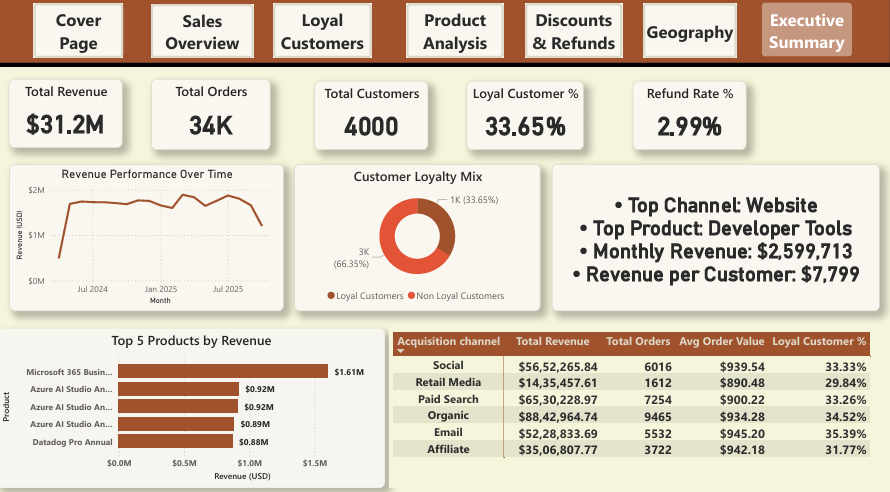

This screenshot's page, from the dashboard's own definition file:
{"tool":"powerbi","page":{"name":"Executive Summary","canvas":[1280,720],"ordinal":6},"visuals":[{"type":"shape","box":[0,0,1280,98.6],"z":0},{"type":"actionButton","title":"Sales Overview","box":[52.9,11.4,128.6,77.1],"z":1000},{"type":"actionButton","title":"Sales Overview","box":[395.7,11.4,141.4,77.1],"z":2000},{"type":"actionButton","title":"Sales Overview","box":[587.1,11.4,138.6,77.1],"z":3000},{"type":"actionButton","title":"Sales Overview","box":[757.1,11.4,138.6,77.1],"z":4000},{"type":"actionButton","title":"Sales Overview","box":[925.7,11.4,134.3,77.1],"z":5000},{"type":"actionButton","title":"Sales Overview","box":[220.9,11.6,146.8,77],"z":6000},{"type":"actionButton","title":"Sales Overview","box":[1095.7,10.2,129.3,77],"z":7000},{"type":"shape","box":[0,81.4,1280,35.7],"z":8000},{"type":"card","title":"Loyal Customer %","fields":{"Values":["_Measures.Loyal Customer %"]},"box":[672.8,122.1,168.6,98.8],"z":9000},{"type":"card","title":"Total Revenue","fields":{"Values":["_Measures.Total Revenue"]},"box":[17.4,119.2,162.8,98.8],"z":10000},{"type":"card","title":"Total Orders","fields":{"Values":["_Measures.Total Orders"]},"box":[220.9,119.2,171.5,101.7],"z":11000},{"type":"card","title":"Total Customers","fields":{"Values":["_Measures.Total Customers"]},"box":[454.9,122.1,162.8,98.8],"z":12000},{"type":"card","title":"Refund Rate %","fields":{"Values":["_Measures.Refund Rate %"]},"box":[911.2,122.1,162.8,98.8],"z":13000},{"type":"lineChart","title":"Revenue Performance Over Time","fields":{"Y":["_Measures.Total Revenue"],"Category":["Events.year_month.Variation.Date Hierarchy.Year","Events.year_month.Variation.Date Hierarchy.Month"]},"box":[18.1,240.9,392.7,211.2],"z":14000},{"type":"donutChart","title":"Customer Loyalty Mix","fields":{"Y":["_Measures.Loyal Customers","_Measures.Non Loyal Customers"]},"box":[425.7,240.9,353.1,211.2],"z":15000},{"type":"card","title":"Total Orders","fields":{"Values":["_Measures.Executive Insights"]},"box":[795.3,240.9,470.2,211.2],"z":16000},{"type":"clusteredBarChart","title":"Top 5 Products by Revenue","fields":{"Category":["Products.product_name"],"Y":["_Measures.Total Revenue"]},"box":[0,476.8,556,227.7],"z":17000},{"type":"pivotTable","fields":{"Rows":["Customers.acquisition_channel"],"Values":["_Measures.Total Revenue","_Measures.Total Orders","_Measures.Avg Order Value","_Measures.Loyal Customer %"]},"box":[562.6,476.8,696.3,227.7],"z":18000}]}

Visuals, with their boxes in screenshot pixels (x1, y1, x2, y2), scaled from the page's 1280x720 canvas onto the 890x492 screenshot:
shape: box=[0, 0, 889, 67]
"Sales Overview" actionButton: box=[37, 8, 126, 60]
"Sales Overview" actionButton: box=[275, 8, 373, 60]
"Sales Overview" actionButton: box=[408, 8, 505, 60]
"Sales Overview" actionButton: box=[526, 8, 623, 60]
"Sales Overview" actionButton: box=[644, 8, 737, 60]
"Sales Overview" actionButton: box=[154, 8, 256, 61]
"Sales Overview" actionButton: box=[762, 7, 852, 60]
shape: box=[0, 56, 889, 80]
"Loyal Customer %" card: box=[468, 83, 585, 151]
"Total Revenue" card: box=[12, 81, 125, 149]
"Total Orders" card: box=[154, 81, 273, 151]
"Total Customers" card: box=[316, 83, 429, 151]
"Refund Rate %" card: box=[634, 83, 747, 151]
"Revenue Performance Over Time" lineChart: box=[13, 165, 286, 309]
"Customer Loyalty Mix" donutChart: box=[296, 165, 542, 309]
"Total Orders" card: box=[553, 165, 880, 309]
"Top 5 Products by Revenue" clusteredBarChart: box=[0, 326, 387, 481]
pivotTable - Customers.acquisition_channel x _Measures.Total Revenue: box=[391, 326, 875, 481]
